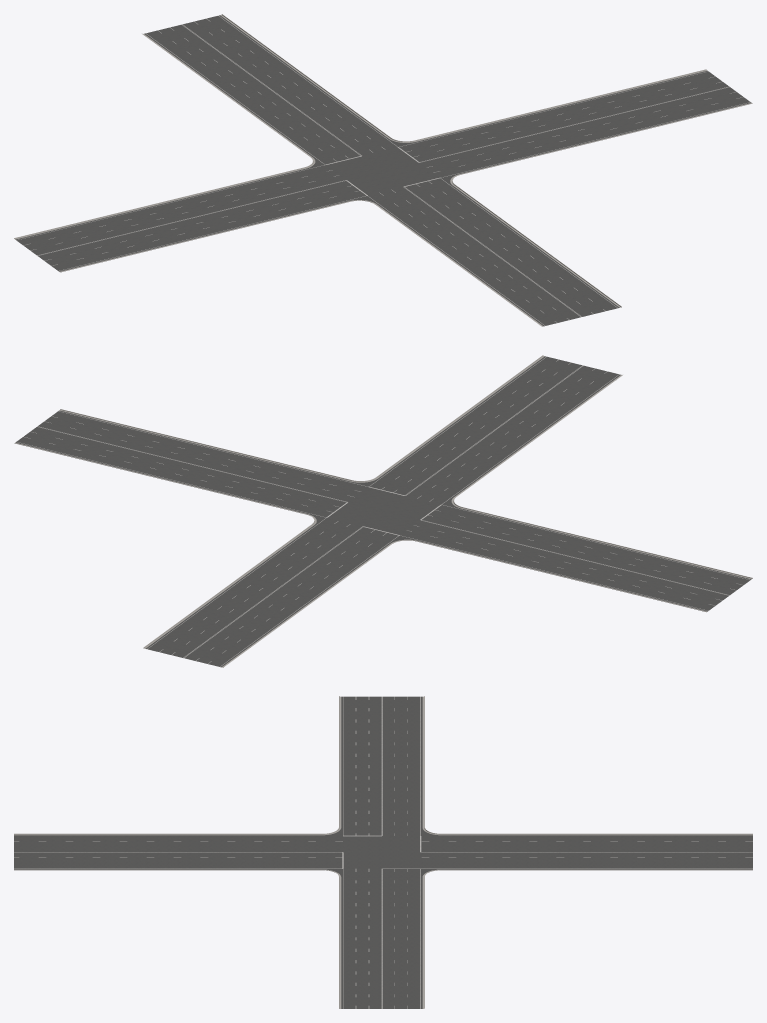
Rendered from intersection.fbx.
3 views of the same model, one above another, from view 1: azimuth 30°, elevation 25°; view 2: azimuth 150°, elevation 25°; view 3: azimuth 270°, elevation 25° (orthographic). The views are drawn at different scales.
Parts seen in each view (by area): view 1: Roads_Road_Layer0_1, Roads_Road_Layer0, Roads_Road_Layer0_3, Roads_Road_Layer0_2, Roads_Marking_Layer0_1, Roads_Marking_Layer0, Roads_Marking_Layer0_2, Roads_Marking_Layer0_3, Roads_Gutter_Layer0_3, Roads_Curb_Layer0_3, Roads_Gutter_Layer0_2, Roads_Gutter_Layer0_1 (+4 smaller); view 2: Roads_Road_Layer0_1, Roads_Road_Layer0, Roads_Road_Layer0_3, Roads_Road_Layer0_2, Roads_Marking_Layer0_1, Roads_Marking_Layer0, Roads_Marking_Layer0_2, Roads_Marking_Layer0_3, Roads_Gutter_Layer0_1, Roads_Curb_Layer0_1, Roads_Gutter_Layer0, Roads_Gutter_Layer0_3 (+4 smaller); view 3: Roads_Road_Layer0_1, Roads_Road_Layer0, Roads_Road_Layer0_3, Roads_Road_Layer0_2, Roads_Marking_Layer0, Roads_Gutter_Layer0_2, Roads_Marking_Layer0_1, Roads_Gutter_Layer0, Roads_Curb_Layer0_2, Roads_Curb_Layer0, Roads_Gutter_Layer0_3, Roads_Gutter_Layer0_1 (+2 smaller).
Part boxes in pixels (x1=…): Roads_Road_Layer0_1: x1=382, y1=86, x2=751, y2=316; Roads_Road_Layer0: x1=36, y1=171, x2=580, y2=326; Roads_Road_Layer0_3: x1=182, y1=15, x2=728, y2=170; Roads_Road_Layer0_2: x1=15, y1=24, x2=381, y2=254; Roads_Marking_Layer0_1: x1=403, y1=86, x2=749, y2=316; Roads_Marking_Layer0: x1=37, y1=180, x2=581, y2=325; Roads_Marking_Layer0_2: x1=17, y1=25, x2=361, y2=250; Roads_Marking_Layer0_3: x1=182, y1=15, x2=722, y2=161; Roads_Gutter_Layer0_3: x1=220, y1=15, x2=707, y2=142; Roads_Curb_Layer0_3: x1=221, y1=14, x2=706, y2=142; Roads_Gutter_Layer0_2: x1=15, y1=34, x2=315, y2=239; Roads_Gutter_Layer0_1: x1=450, y1=103, x2=751, y2=307; Roads_Road_Layer0_1: x1=36, y1=356, x2=582, y2=511; Roads_Road_Layer0: x1=383, y1=365, x2=751, y2=595; Roads_Road_Layer0_3: x1=15, y1=427, x2=382, y2=657; Roads_Road_Layer0_2: x1=184, y1=512, x2=728, y2=667; Roads_Marking_Layer0_1: x1=37, y1=356, x2=582, y2=502; Roads_Marking_Layer0: x1=405, y1=365, x2=749, y2=595; Roads_Marking_Layer0_2: x1=184, y1=525, x2=722, y2=666; Roads_Marking_Layer0_3: x1=17, y1=431, x2=362, y2=657; Roads_Gutter_Layer0_1: x1=59, y1=356, x2=544, y2=482; Roads_Curb_Layer0_1: x1=60, y1=355, x2=543, y2=481; Roads_Gutter_Layer0: x1=451, y1=375, x2=752, y2=579; Roads_Gutter_Layer0_3: x1=15, y1=442, x2=316, y2=648; Roads_Road_Layer0_1: x1=14, y1=852, x2=383, y2=1008; Roads_Road_Layer0: x1=14, y1=696, x2=383, y2=852; Roads_Road_Layer0_3: x1=383, y1=852, x2=752, y2=1008; Roads_Road_Layer0_2: x1=383, y1=696, x2=752, y2=852; Roads_Marking_Layer0: x1=14, y1=696, x2=382, y2=852; Roads_Gutter_Layer0_2: x1=422, y1=696, x2=752, y2=835; Roads_Marking_Layer0_1: x1=14, y1=852, x2=383, y2=1008; Roads_Gutter_Layer0: x1=14, y1=696, x2=341, y2=835; Roads_Curb_Layer0_2: x1=424, y1=696, x2=752, y2=834; Roads_Curb_Layer0: x1=14, y1=696, x2=339, y2=834; Roads_Gutter_Layer0_3: x1=422, y1=869, x2=752, y2=1008; Roads_Gutter_Layer0_1: x1=14, y1=869, x2=341, y2=1008.
Size of the model in its own units: 200 by 200 by 0.1651.
Materials: 5 (5 with a texture image).
